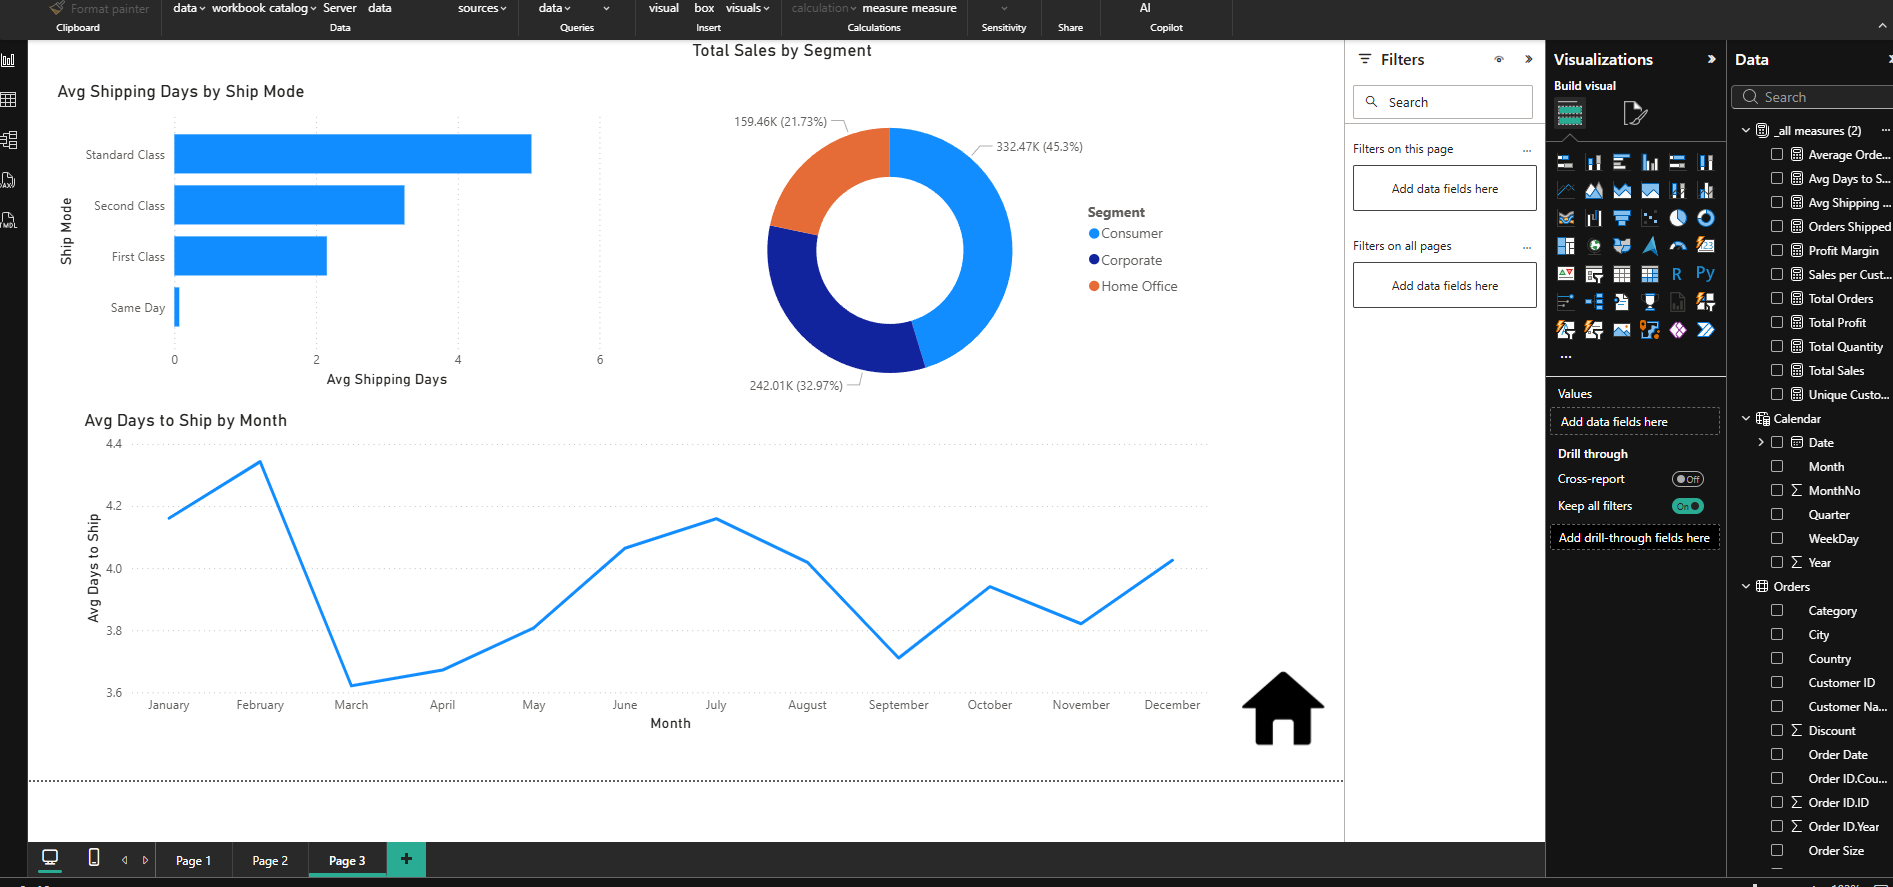

What the dashboard file says about the page in this screenshot:
{"tool":"powerbi","page":{"name":"Page 3","canvas":[1280,720],"ordinal":2},"visuals":[{"type":"donutChart","fields":{"Category":["Orders.Segment"],"Y":["_all measures (2).Total Sales"]},"box":[641,0,491.7,390.3],"z":0},{"type":"actionButton","box":[1176.7,604.6,88,89.9],"z":1001},{"type":"clusteredBarChart","fields":{"Category":["Orders.Ship Mode"],"Y":["_all measures (2).Avg Shipping Days"]},"box":[23,40.2,541.5,302.3],"z":1002},{"type":"lineChart","fields":{"Category":["Calendar.Date.Variation.Date Hierarchy.Year","Calendar.Date.Variation.Date Hierarchy.Quarter","Calendar.Date.Variation.Date Hierarchy.Month","Calendar.Date.Variation.Date Hierarchy.Day"],"Y":["_all measures (2).Avg Days to Ship"]},"box":[49.7,359.7,1104,317.6],"z":1003}]}

Visuals, with their boxes on the page's 1280x720 design canvas (x1, y1, x2, y2). These are canvas units, not pixel positions in the 1893x887 screenshot, which may show the page scaled, cropped or inside an application window:
donutChart - Orders.Segment x _all measures (2).Total Sales: (x1=641, y1=0, x2=1133, y2=390)
actionButton: (x1=1177, y1=605, x2=1265, y2=694)
clusteredBarChart - Orders.Ship Mode x _all measures (2).Avg Shipping Days: (x1=23, y1=40, x2=564, y2=342)
lineChart - Calendar.Date.Variation.Date Hierarchy.Year x Calendar.Date.Variation.Date Hierarchy.Quarter: (x1=50, y1=360, x2=1154, y2=677)
